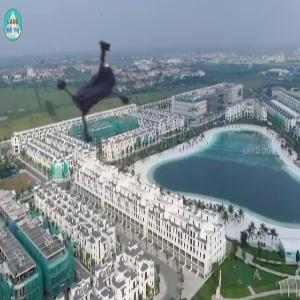drone: (36, 20, 150, 134)
